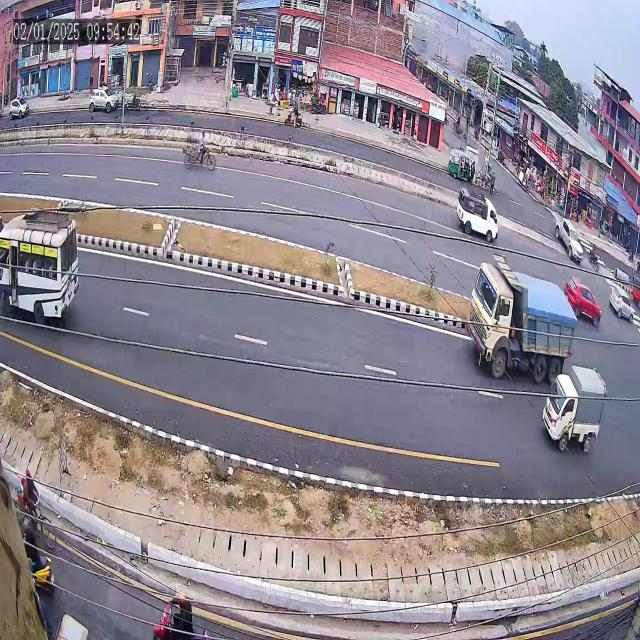bus: (0, 209, 88, 335)
car: (559, 266, 604, 336), (551, 206, 586, 268), (606, 280, 638, 335)
cycle: (175, 128, 229, 178)
truck: (459, 250, 584, 390)
van: (538, 356, 608, 467), (446, 186, 508, 250)
